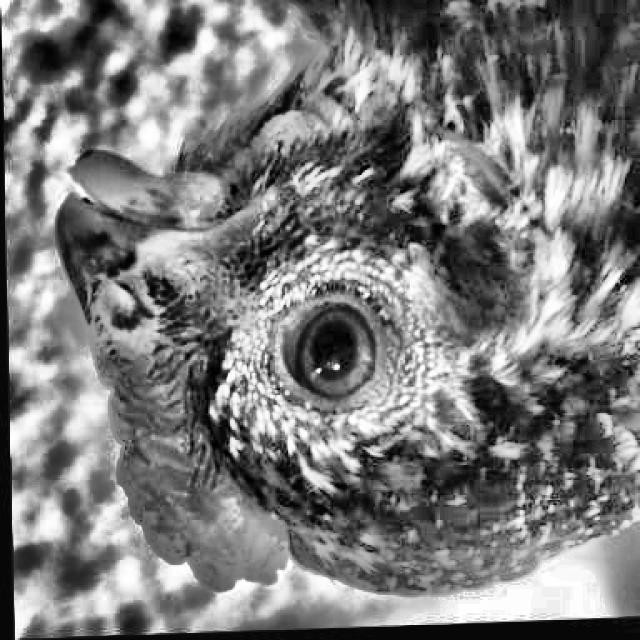Healthy: (257, 277, 400, 430)
